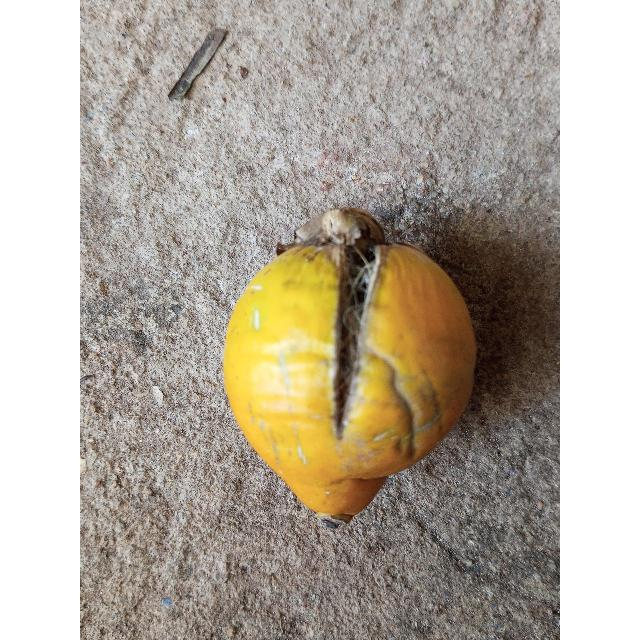damaged: (224, 207, 476, 528)
